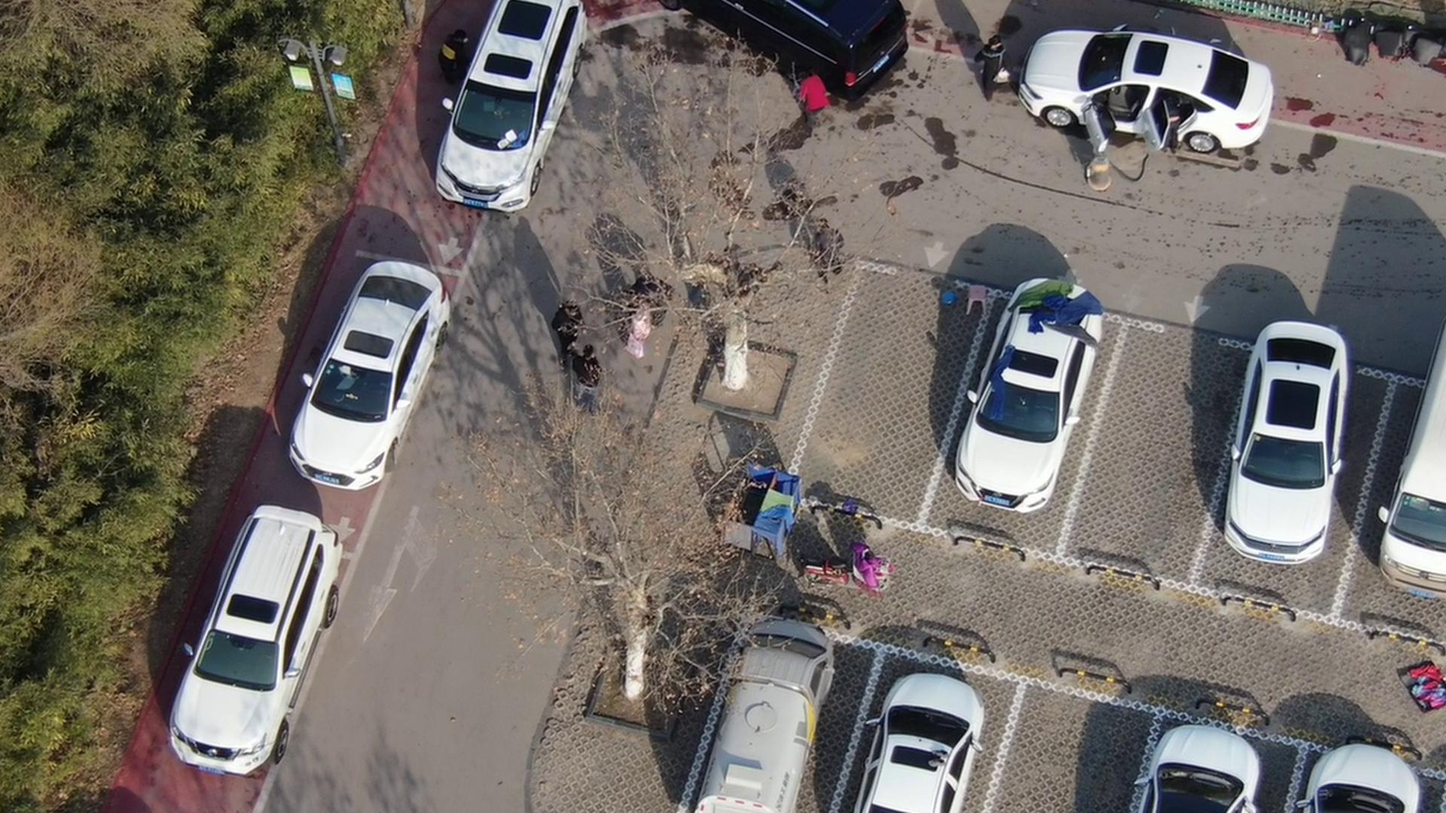human: (973, 29, 1023, 105), (546, 297, 589, 376), (809, 216, 853, 290), (438, 26, 483, 92), (572, 340, 610, 414), (798, 56, 836, 129), (627, 300, 660, 370), (1150, 92, 1182, 162)
